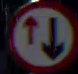Two way: (7, 1, 75, 71)
